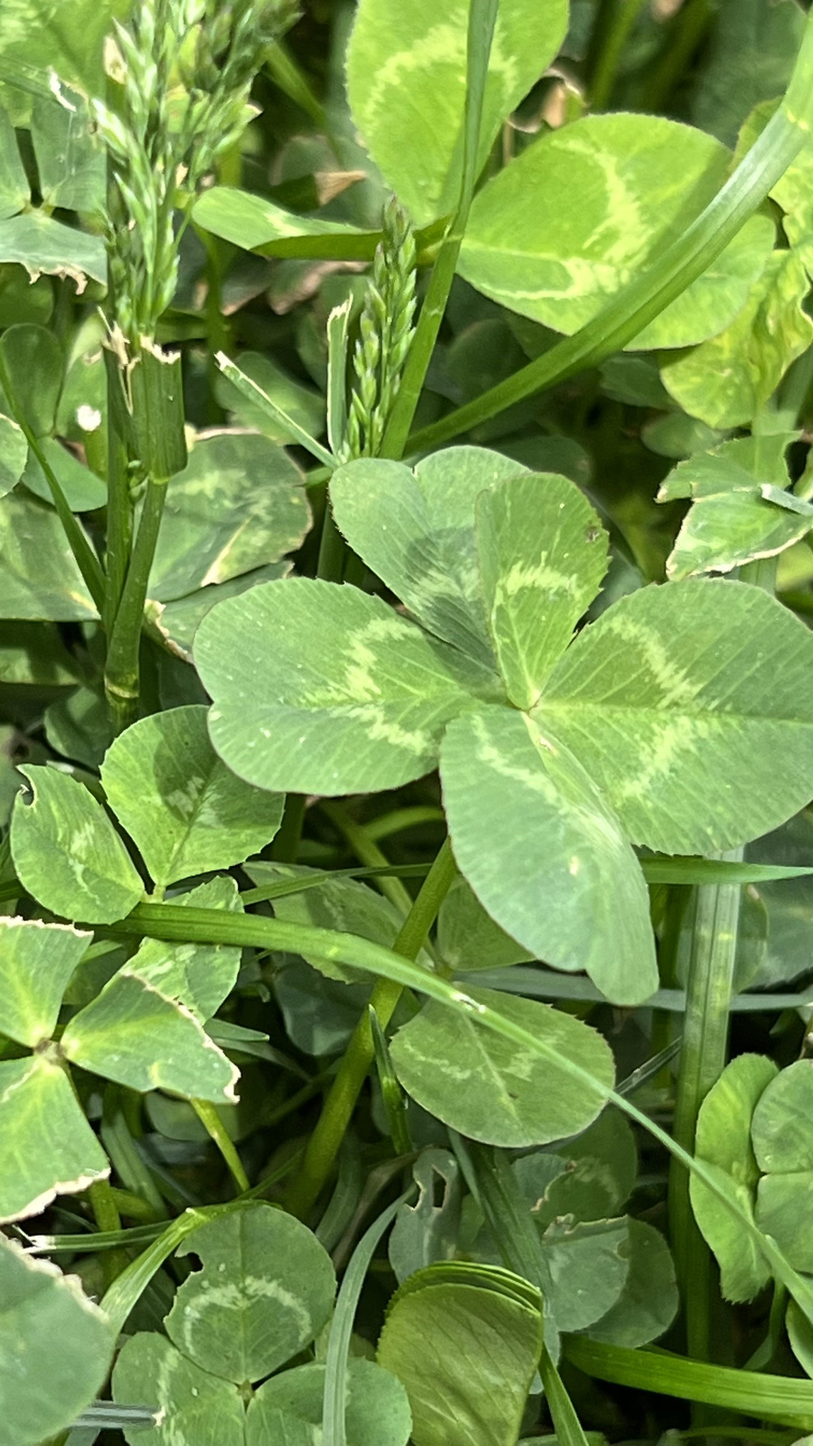5-Leaf-Clovers: (252, 2, 561, 1091)
